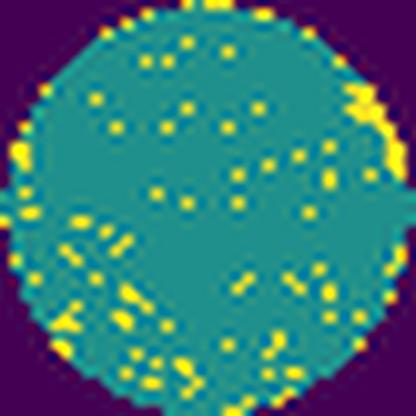Edge-Loc: (344, 83, 412, 191)
